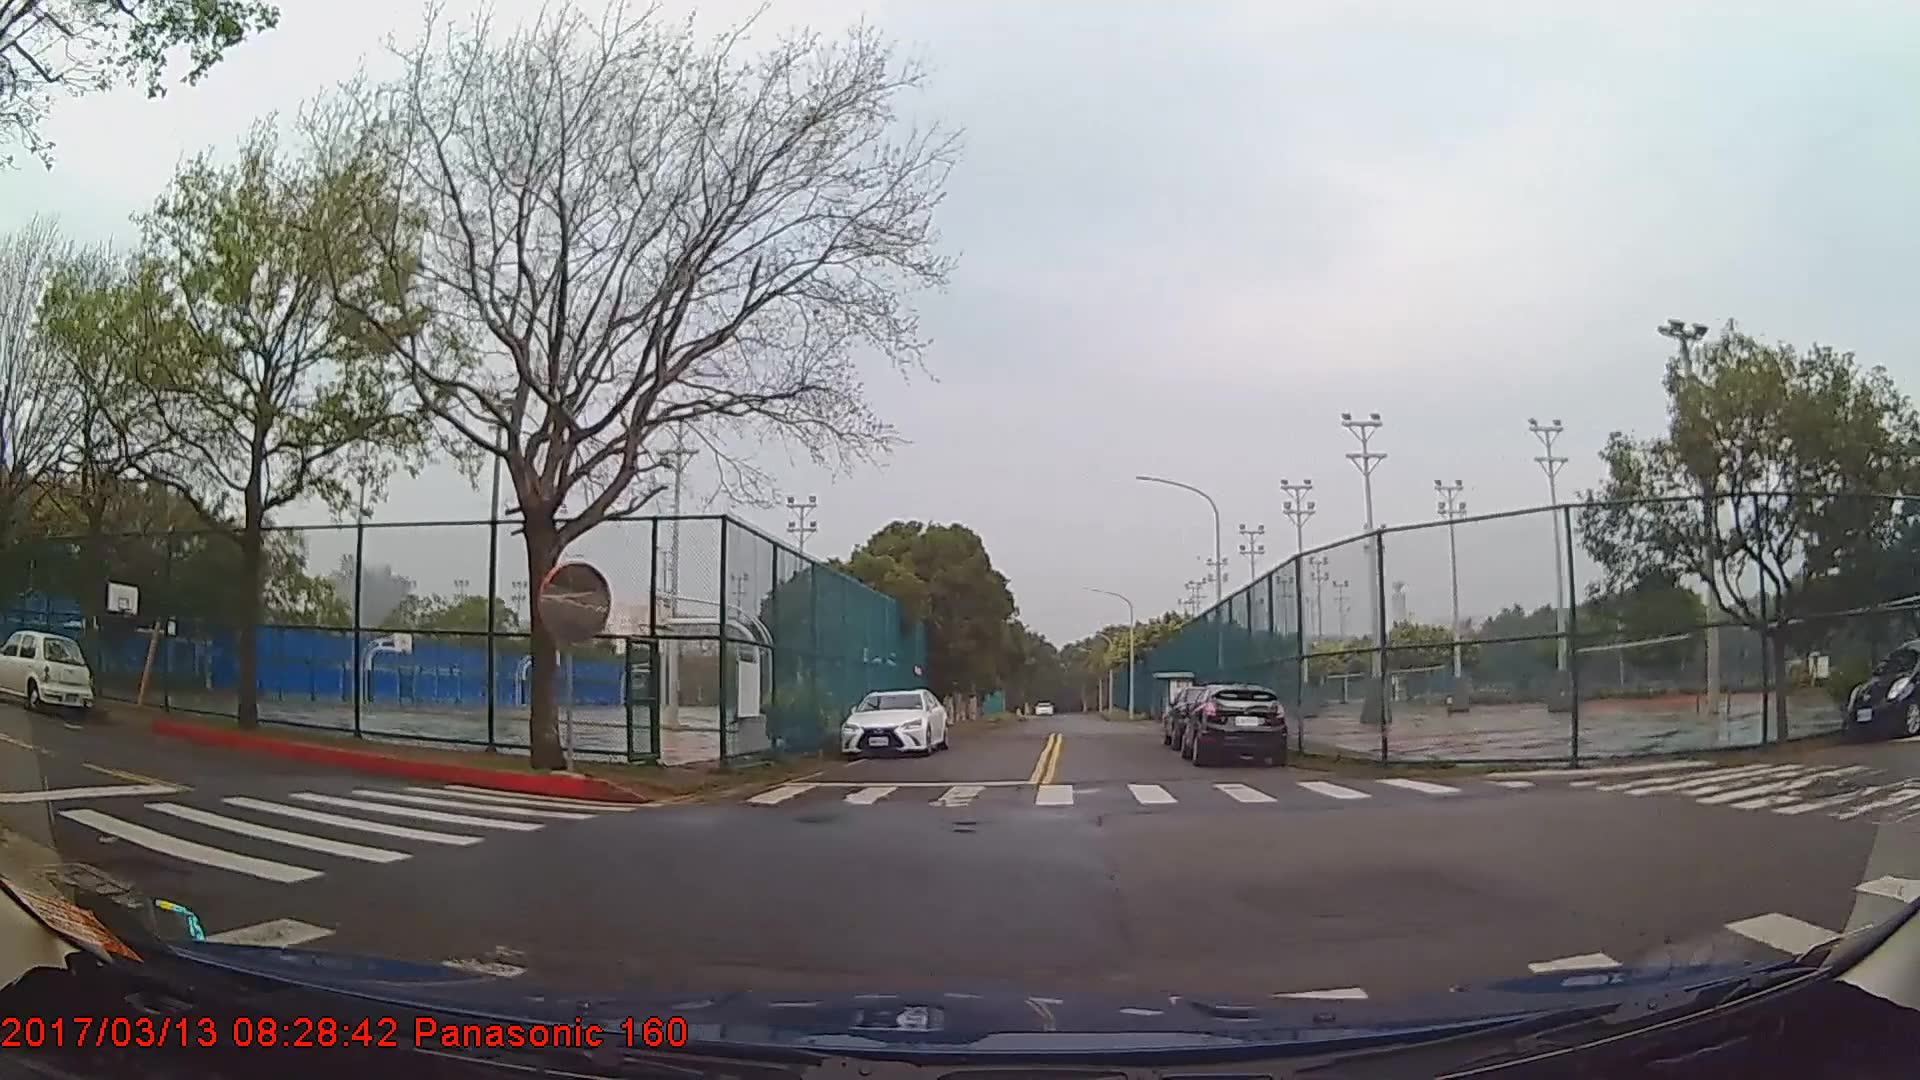vehicle: (1184, 683, 1291, 769), (0, 629, 94, 717), (843, 688, 951, 761), (1846, 638, 1920, 738)
